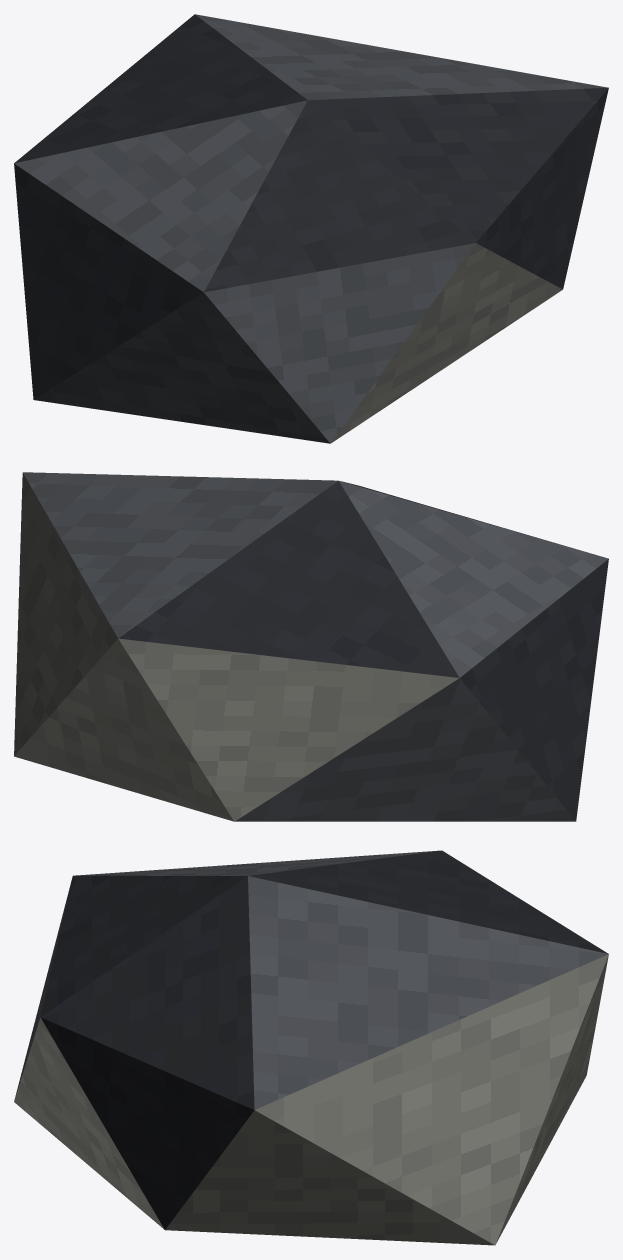
File: rock_small.glb
3 views of the same model, one above another, from view 1: azimuth 30°, elevation 25°; view 2: azimuth 150°, elevation 25°; view 3: azimuth 270°, elevation 25° (orthographic). The views are drawn at different scales.
Visible parts, largest first — view 1: rock_small; view 2: rock_small; view 3: rock_small.
Part boxes in pixels (bbox=[...]): rock_small: bbox=[14, 14, 608, 443]; rock_small: bbox=[14, 472, 608, 821]; rock_small: bbox=[14, 850, 608, 1245].
Bounding box in the file's own units: 0.9894 × 0.4312 × 0.8302.
1 material, 1 textured.
